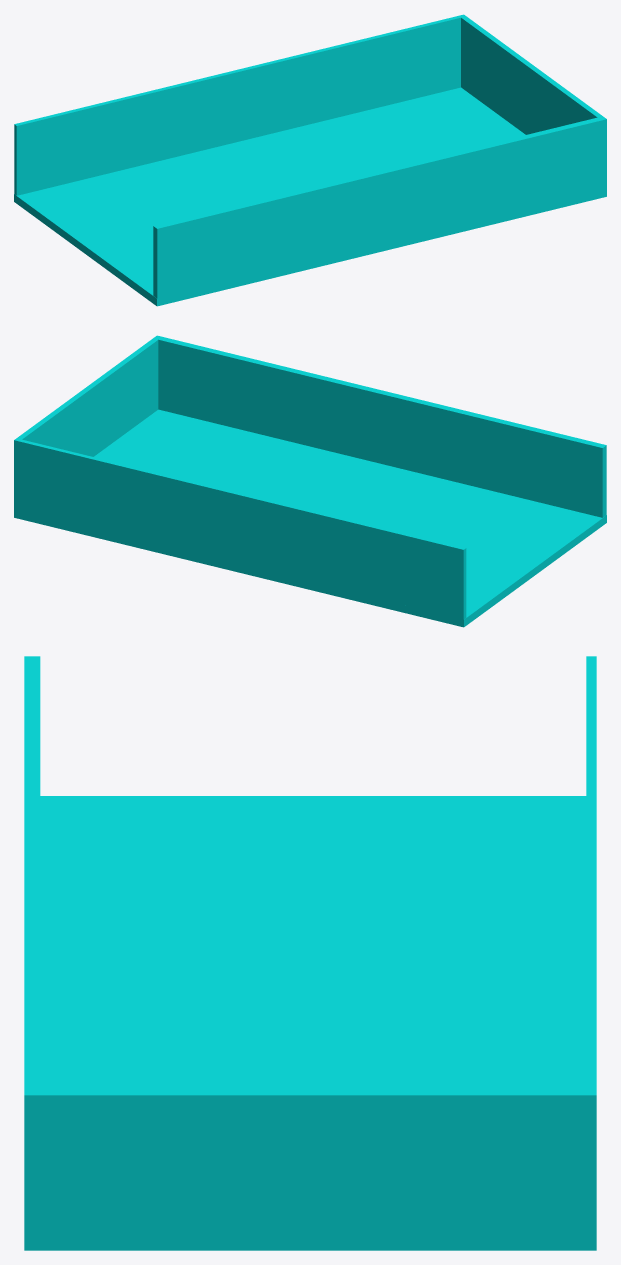
The model's file is SE_ControlDeskDrawer_Env.fbx.
3 views of the same model, one above another, from view 1: azimuth 30°, elevation 25°; view 2: azimuth 150°, elevation 25°; view 3: azimuth 270°, elevation 25° (orthographic). The views are drawn at different scales.
Visible parts, largest first — view 1: polySurface1; view 2: polySurface1; view 3: polySurface1.
Boxes of the visible parts, x1,y1,x2,y2 form: polySurface1: (14,14,606,306); polySurface1: (14,335,606,627); polySurface1: (24,656,596,1250).
Size of the model in its own units: 98.03 by 16.14 by 53.97.
